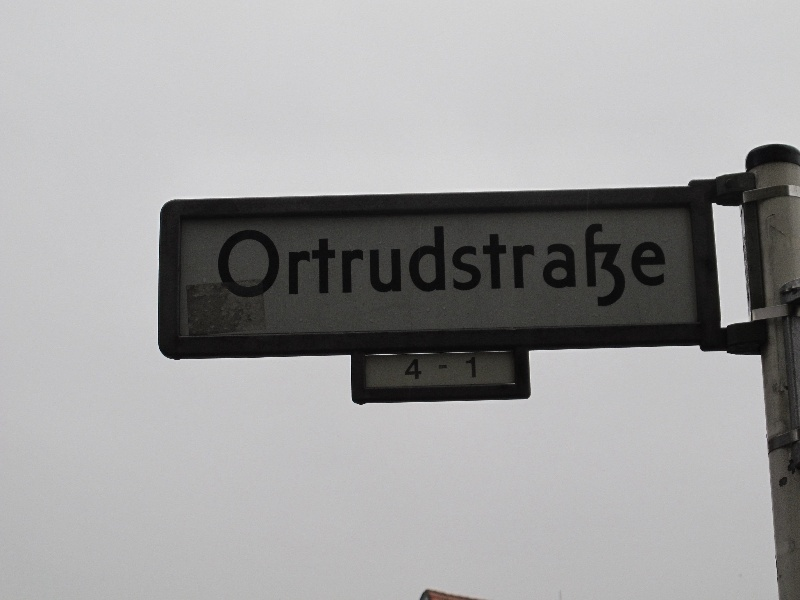text: (225, 218, 240, 311), (241, 218, 256, 311), (257, 218, 272, 311), (273, 218, 288, 311), (289, 218, 304, 311), (305, 218, 320, 311), (321, 218, 336, 311), (337, 218, 352, 311), (353, 218, 368, 311), (369, 218, 384, 311), (385, 218, 400, 311), (401, 218, 416, 311), (417, 218, 432, 311), (433, 218, 448, 311), (449, 218, 464, 311), (465, 218, 480, 311), (481, 218, 496, 311), (497, 218, 512, 311), (513, 218, 528, 311), (529, 218, 544, 311), (545, 218, 560, 311), (561, 218, 576, 311), (577, 218, 592, 311), (593, 218, 608, 311), (609, 218, 624, 311), (625, 218, 640, 311), (641, 218, 656, 311), (657, 218, 670, 311), (218, 218, 224, 311), (465, 355, 479, 382), (405, 358, 416, 383), (417, 358, 426, 383), (435, 362, 448, 374), (449, 362, 451, 374)
